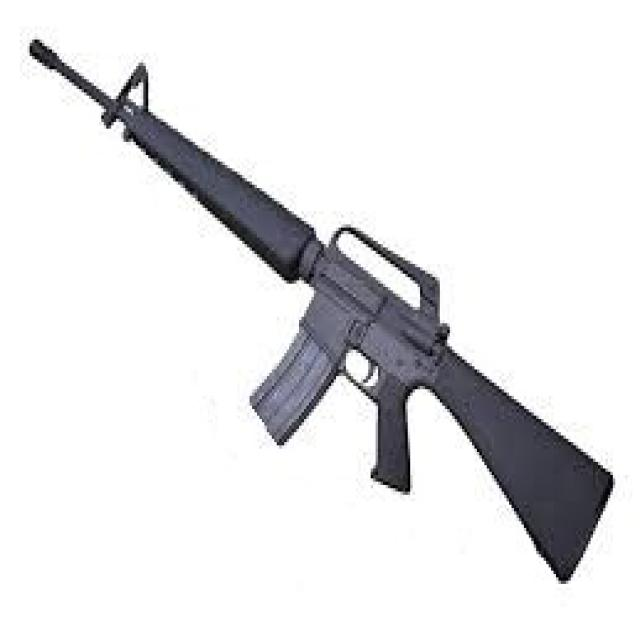rifle: (26, 32, 621, 600)
